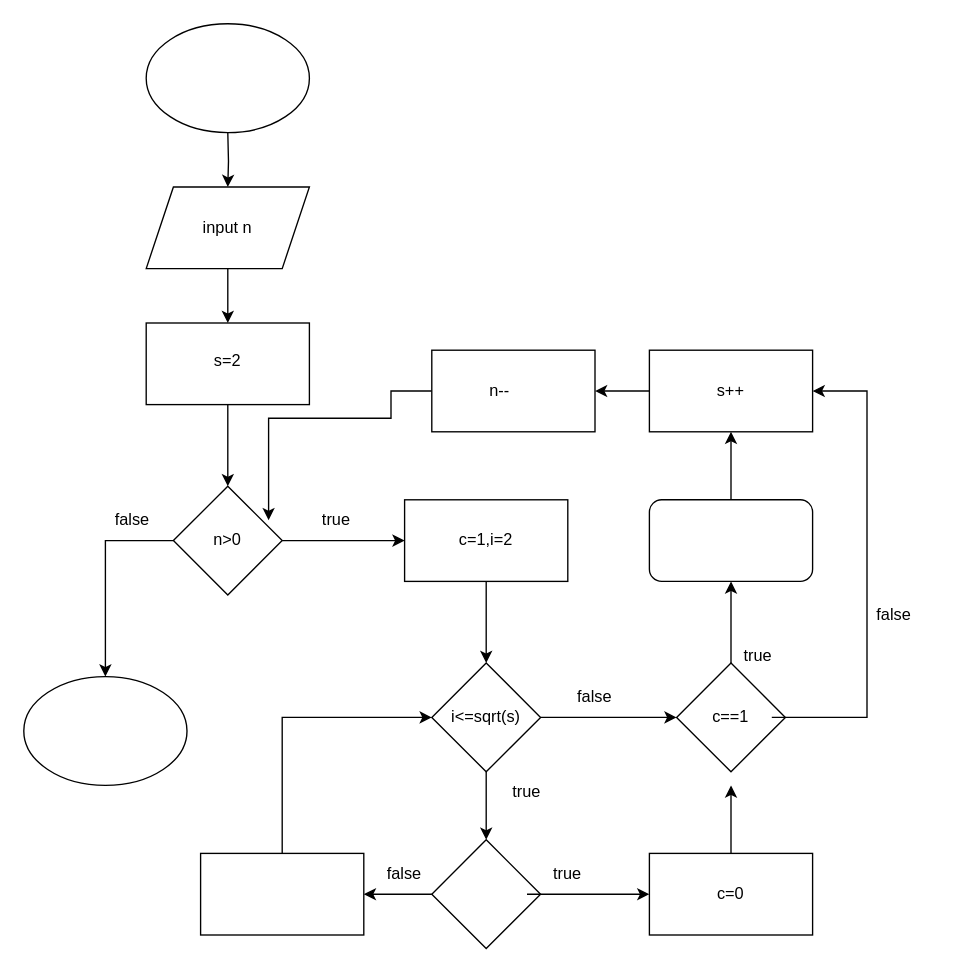
The diagram is 959 pixels wide and 972 high, and some of its shapes have lost their labels. The shapes that lost their labels are listed below. From the top down, each one's box as (x1, y1, x2, y2) in pixels, then its label:
(145, 22, 309, 133): start
(648, 498, 813, 581): printf s
(22, 675, 187, 785): end
(199, 852, 364, 935): i=i+1
(430, 838, 541, 949): s%i==0
